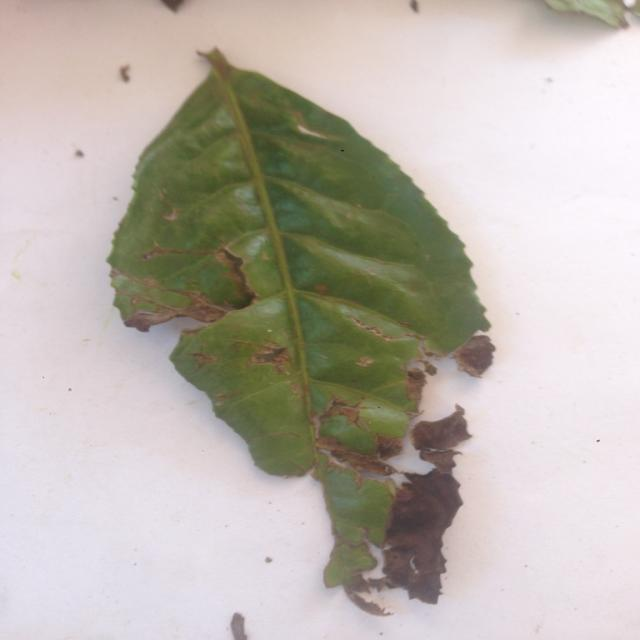Brown Blight: (106, 42, 540, 618)
